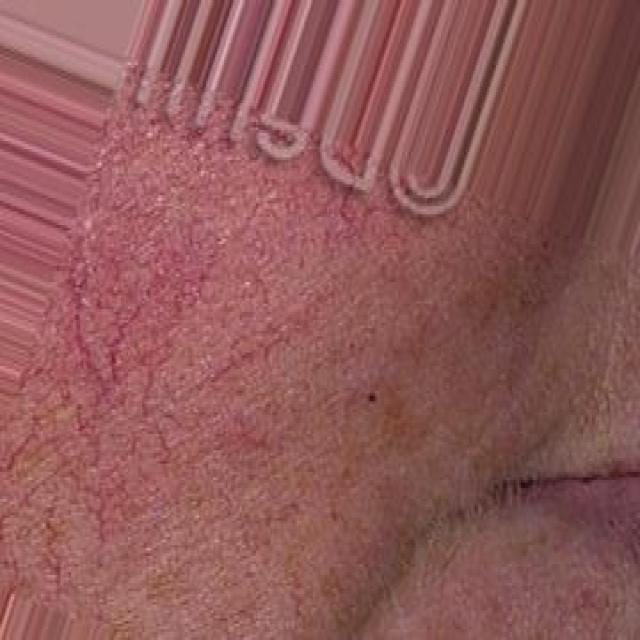Rosacea: (7, 176, 368, 564)
